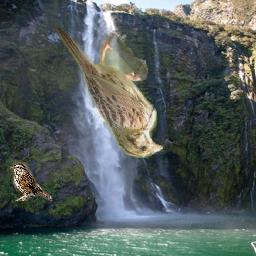Sparrow: (53, 29, 163, 160), (11, 163, 54, 202)
